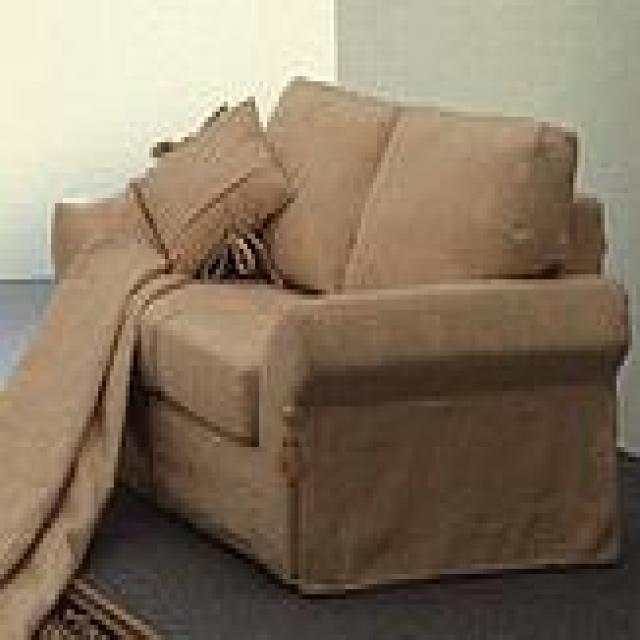sofa: (50, 76, 632, 599)
